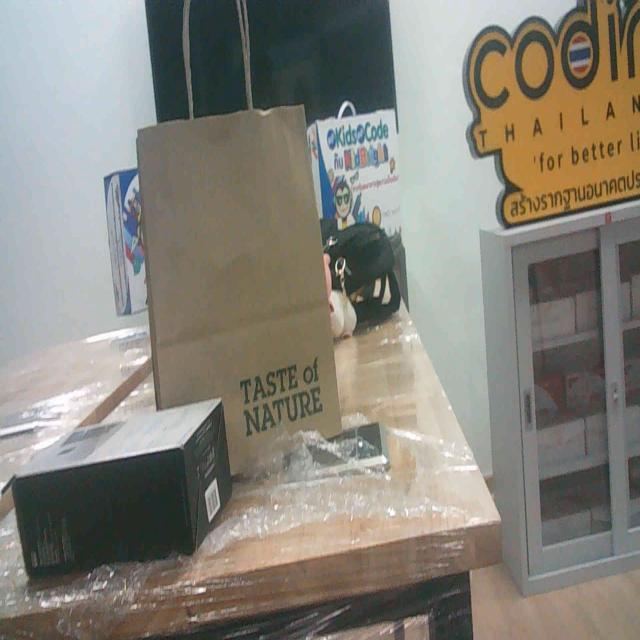bag: (132, 109, 342, 468)
